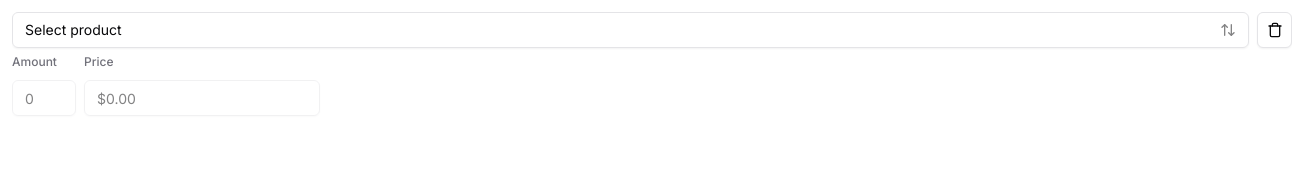
Scenario: OrderProductField › updates product selection correctly
Step 1. Click the dropdown → click(73, 30), box 12,12 -> 1249,48
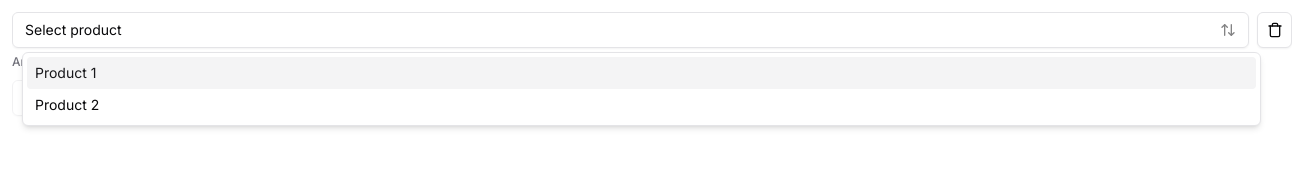
Step 2. Click the option "Product 1" → click(66, 72), box 27,57 -> 1256,89
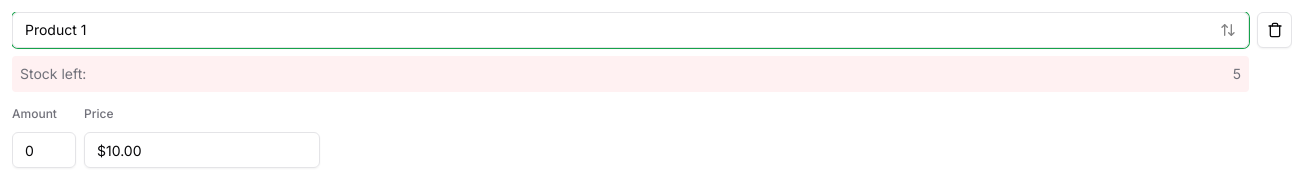
Now the dropdown reads "Product 1", box 12,12 -> 1249,48
Now the text "Stock left:" is shown, box 20,64 -> 86,84
Now the text "5" is shown, box 1233,64 -> 1241,84
